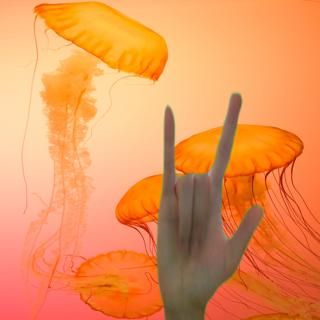ILY: (151, 89, 267, 314)
